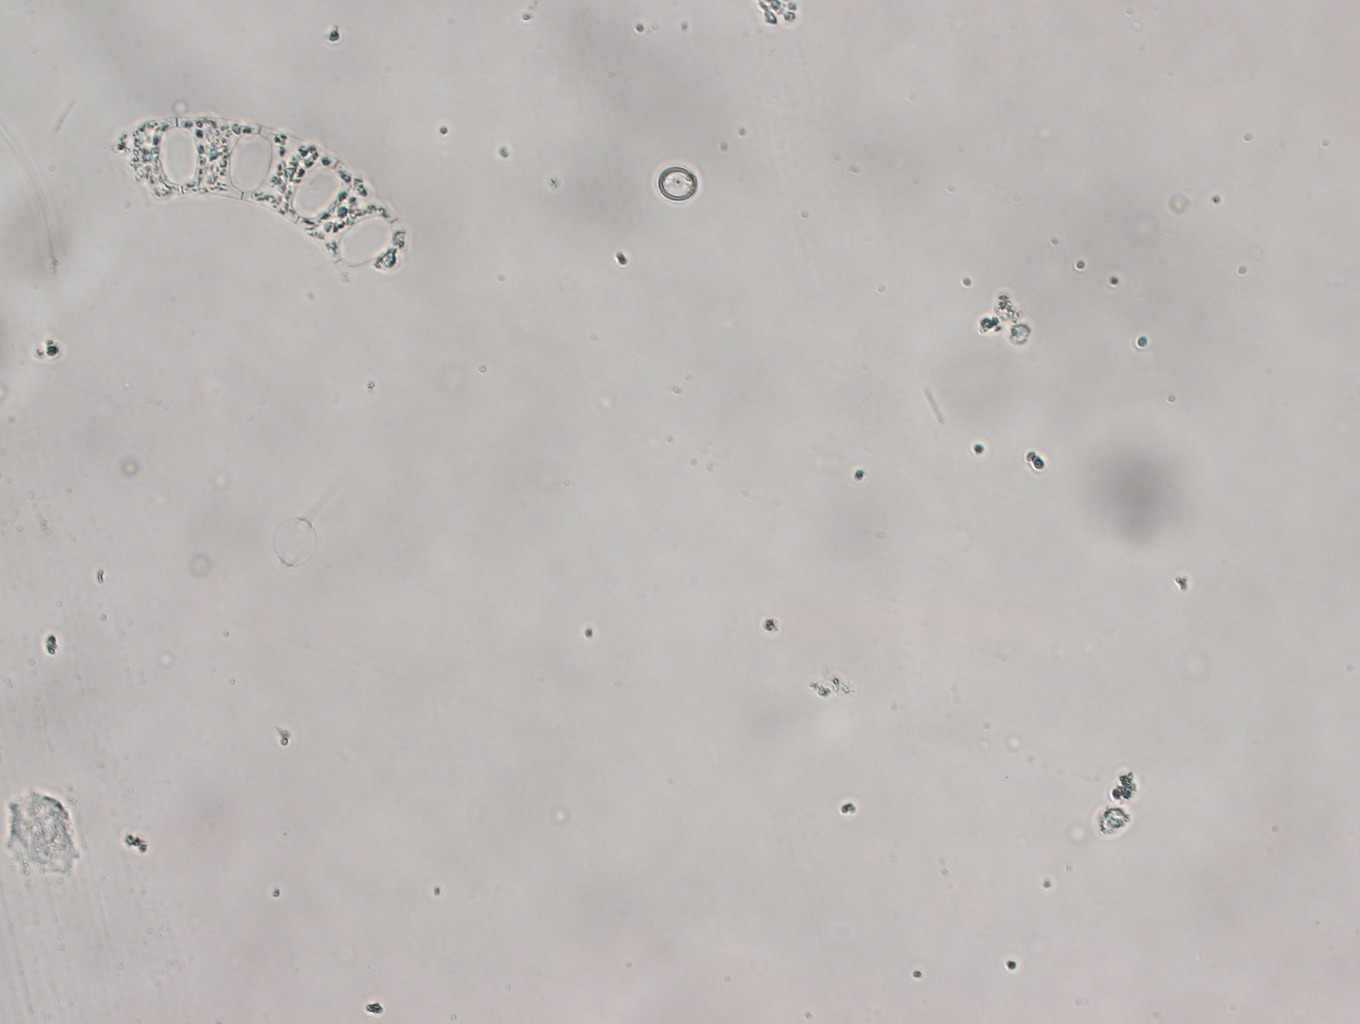eucampia: (112, 103, 414, 287)
